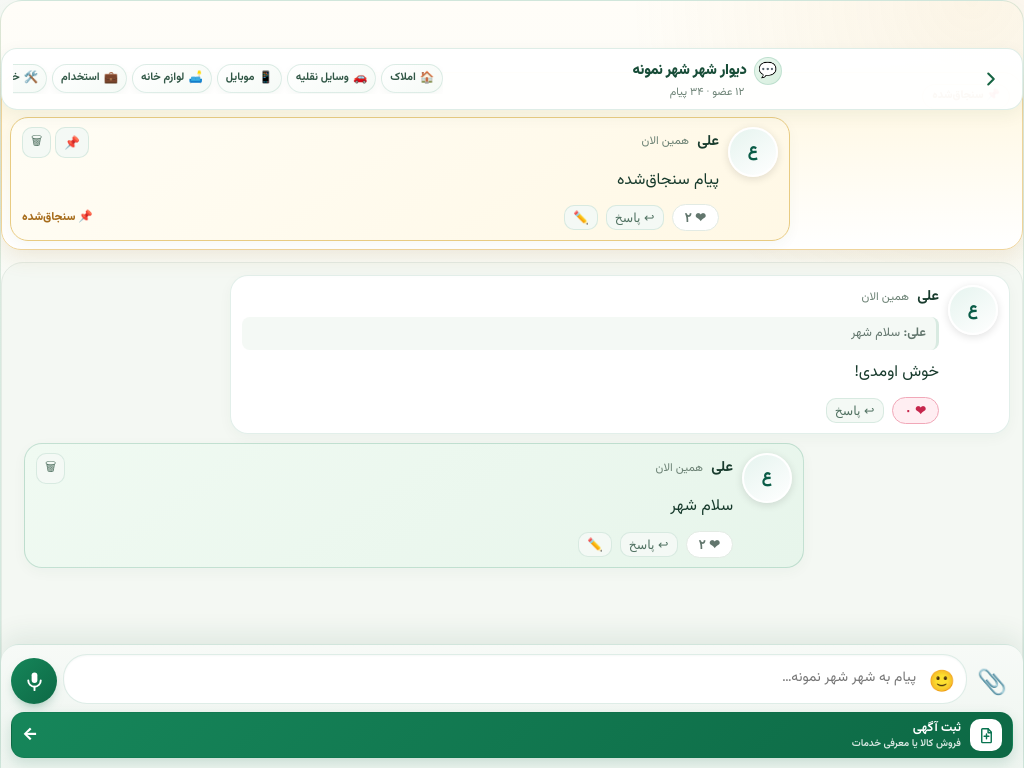
Test case: WallView › opens the sticker tray, switches packs and inserts an emoji into the message text
This screenshot has width=1024, height=768.
Click the button with test id "wall-sticker-btn" at (942, 680), box [923,661,961,699]
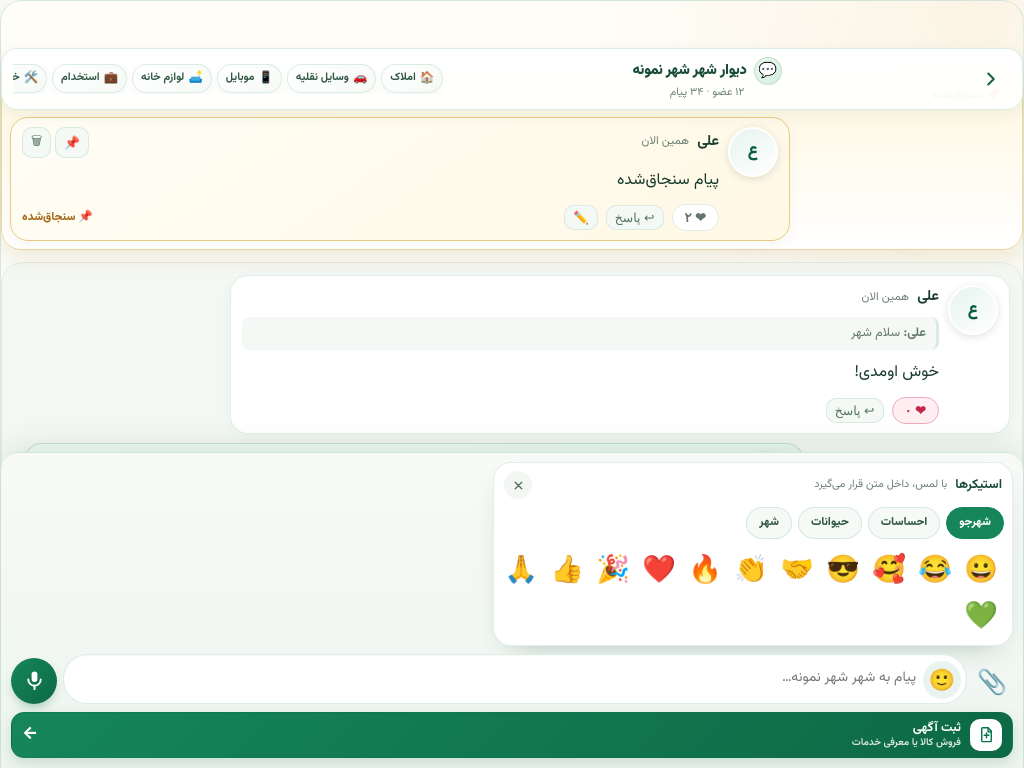
Now the dialog with test id "wall-sticker-panel" is shown, box [493,463,1013,646]
Now the button with test id "wall-sticker-grin" is shown, box [962,549,1004,591]
Click the tab with test id "wall-sticker-pack-animals" at (830, 523), box [798,508,862,539]
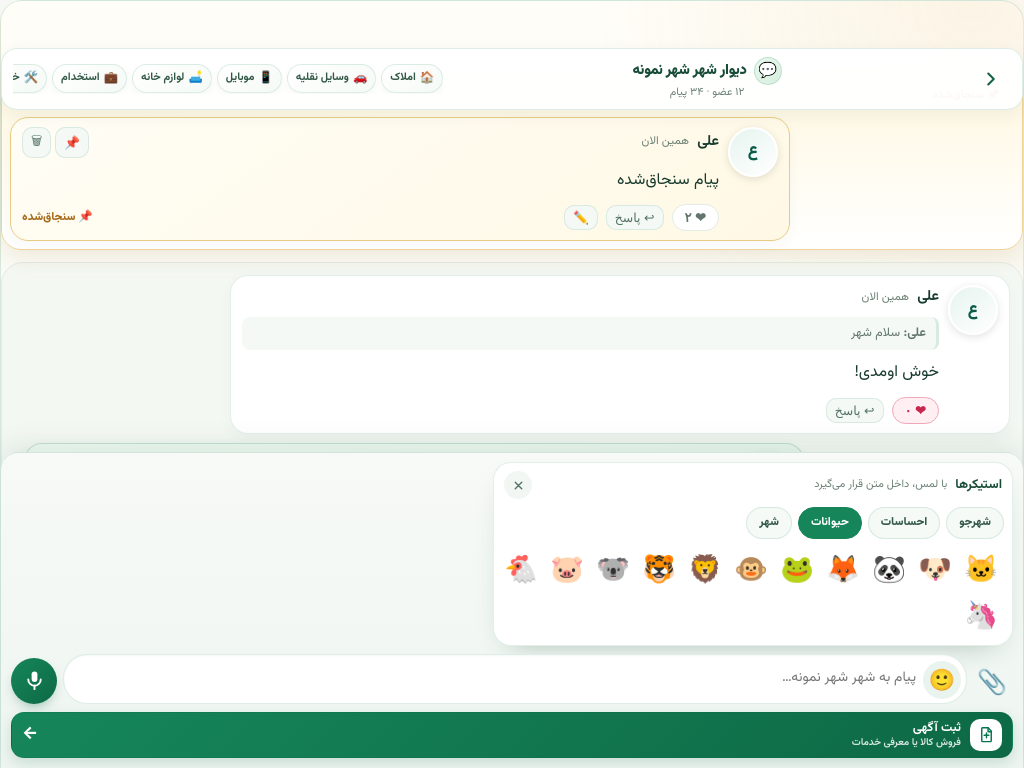
Now the button with test id "wall-sticker-cat" is shown
Click the button with test id "wall-sticker-cat" at (983, 570), box [962,549,1004,591]
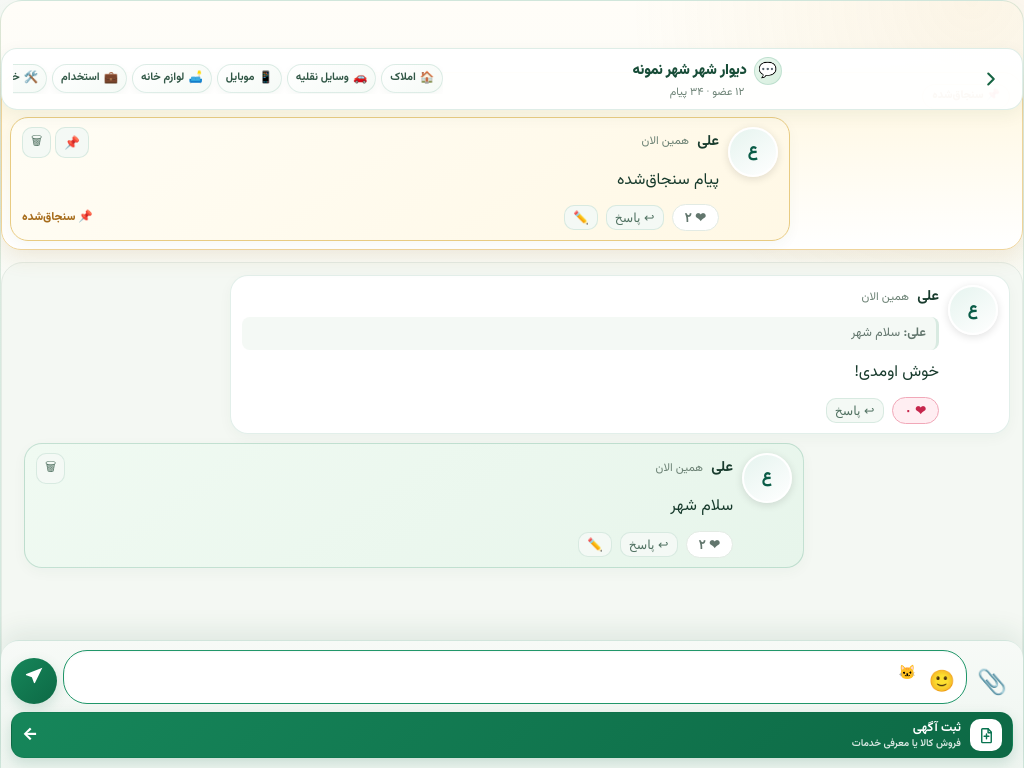
Now the text box with test id "wall-input" holds "🐱", box [68,654,920,700]
Now the dialog with test id "wall-sticker-panel" is gone
